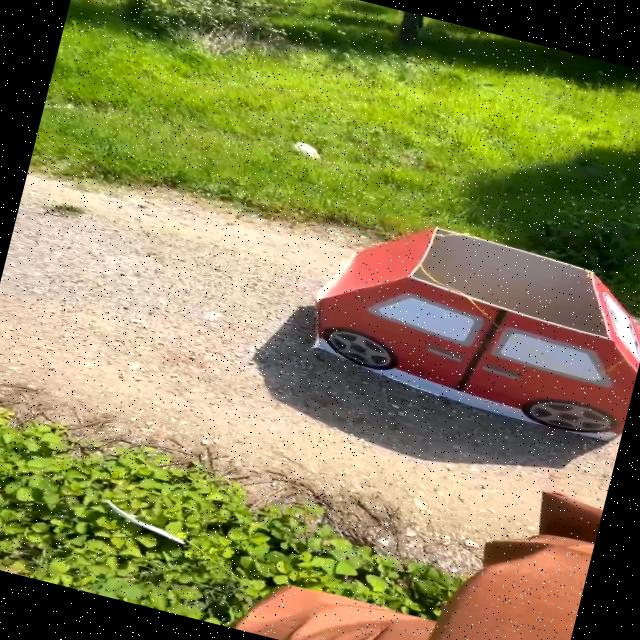red_car: (283, 193, 640, 465)
